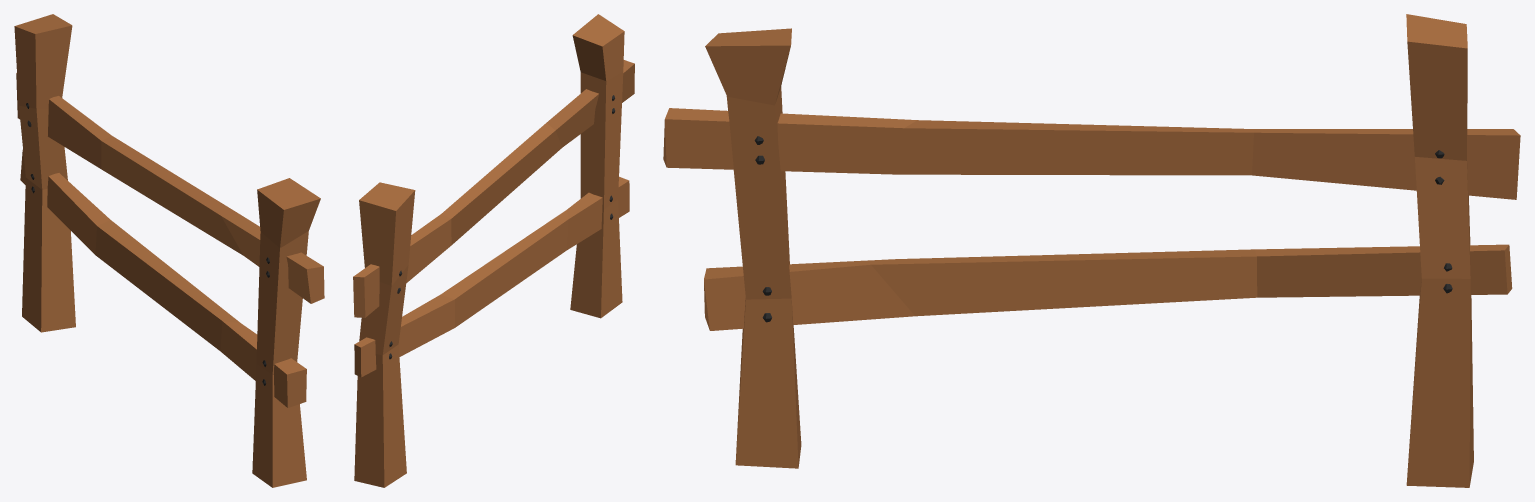
Rendered from steccato.fbx.
The picture shows the model from 3 angles, left to right: view 1: azimuth 30°, elevation 25°; view 2: azimuth 150°, elevation 25°; view 3: azimuth 270°, elevation 25°; orthographic projection. The views are drawn at different scales.
Parts seen in each view (by area): view 1: Cube.003, Cube, Cube.005, Cube.004; view 2: Cube.003, Cube, Cube.005, Cube.004; view 3: Cube.004, Cube.005, Cube.003, Cube.
Part boxes in pixels (x1,y1,x2,y2): Cube.003: [14, 14, 75, 332]; Cube: [252, 178, 320, 487]; Cube.005: [20, 150, 306, 407]; Cube.004: [16, 73, 324, 303]; Cube.003: [354, 182, 415, 487]; Cube: [570, 14, 624, 318]; Cube.005: [354, 176, 629, 377]; Cube.004: [353, 60, 634, 317]; Cube.004: [663, 108, 1520, 199]; Cube.005: [704, 244, 1512, 330]; Cube.003: [1406, 14, 1473, 487]; Cube: [705, 28, 801, 468].
Size of the model in its own units: 127 by 800 by 1402.
